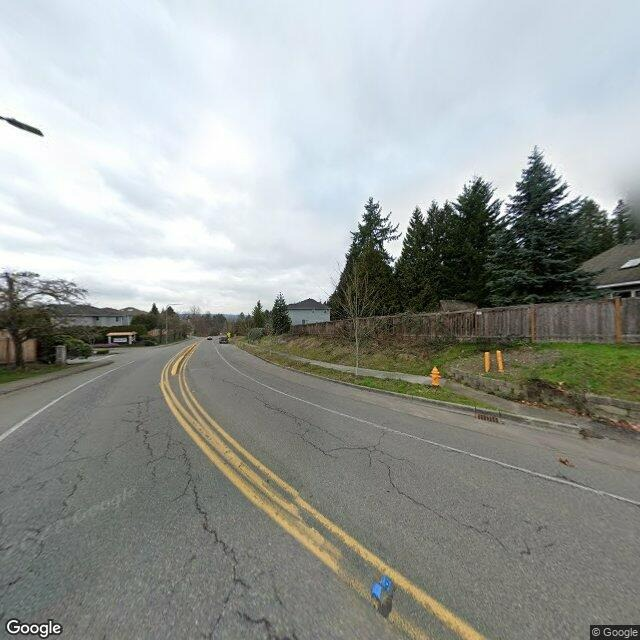hydrant: (425, 360, 444, 390)
